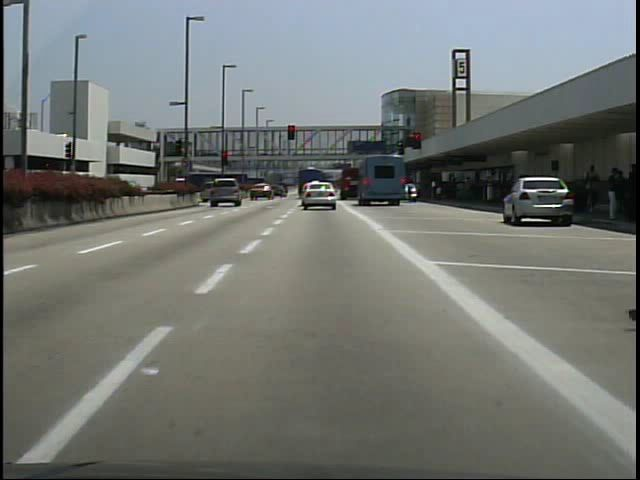person: (583, 165, 599, 215)
